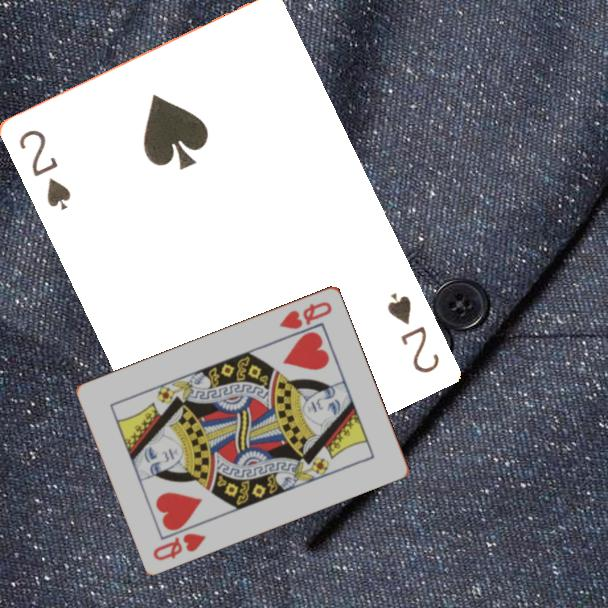h12: (149, 529, 209, 563), (276, 298, 335, 332)
s02: (14, 126, 74, 213), (383, 288, 442, 376)
